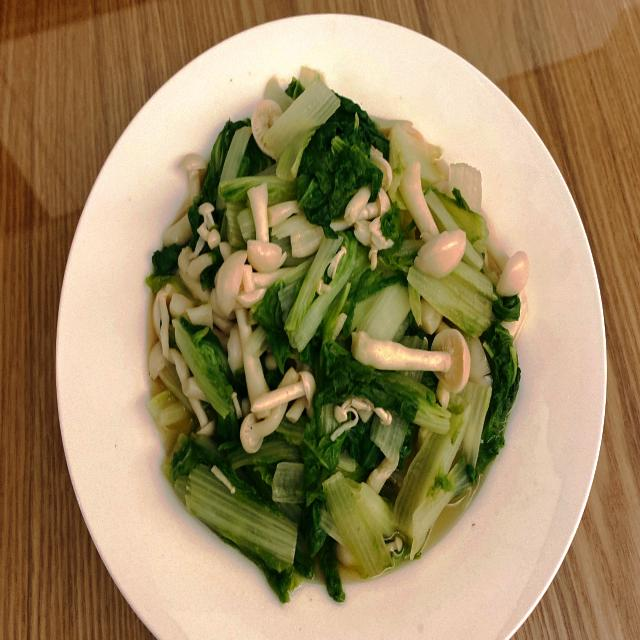chinese_cabbage: (122, 93, 540, 581)
